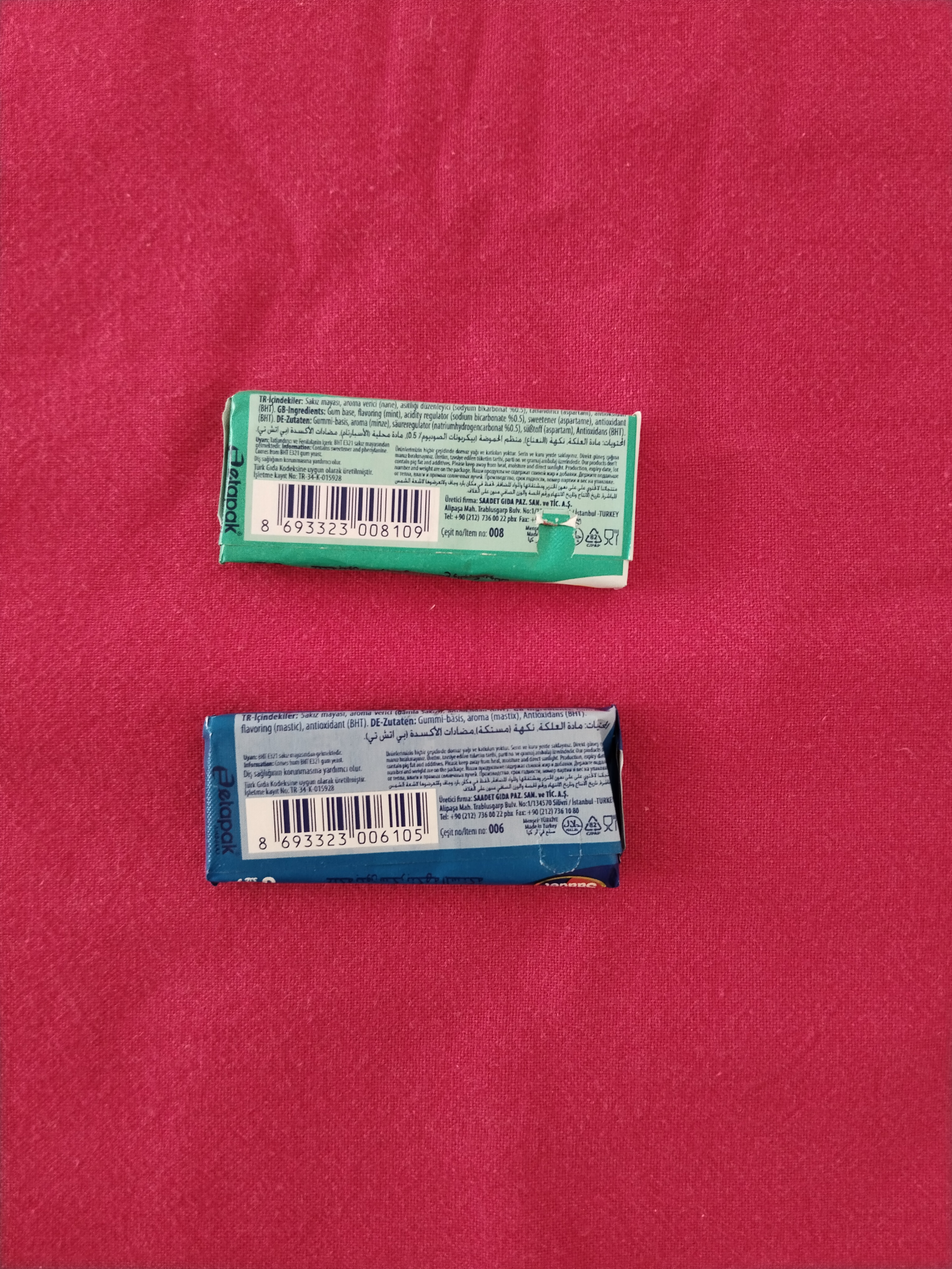nazar_damla_sakizli_sakiz: (205, 705, 623, 887)
nazar_naneli_sakiz: (219, 393, 641, 583)
